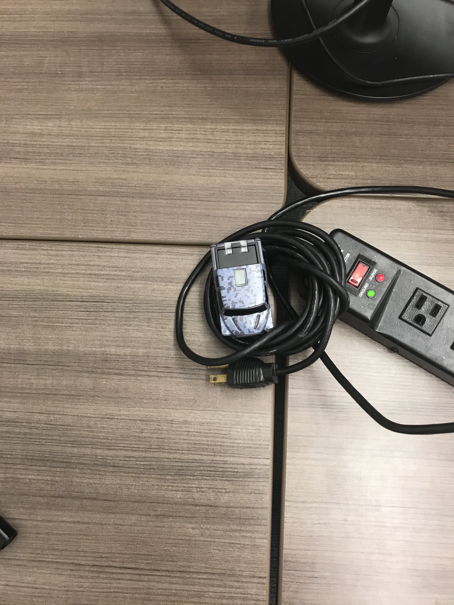MXT: (209, 238, 276, 338)
